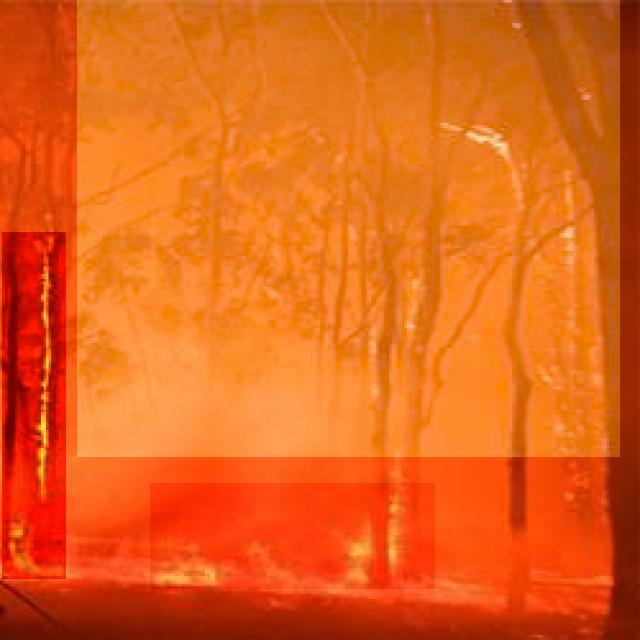Fire: (150, 483, 435, 589), (2, 232, 66, 579)
Smoke: (77, 0, 620, 457)
